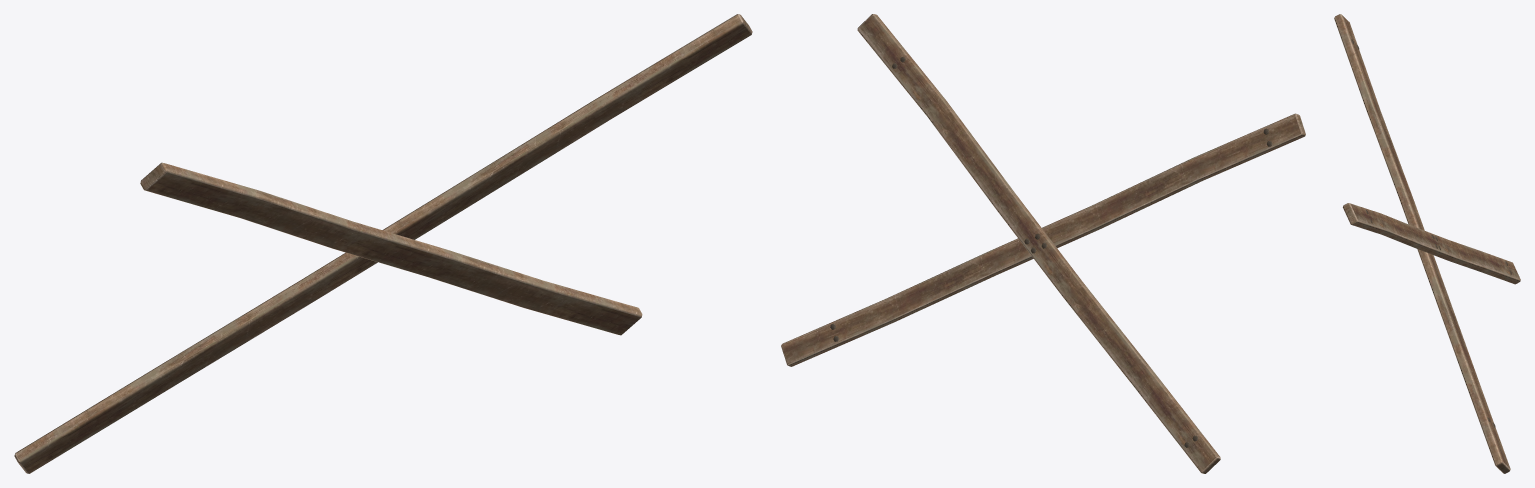
3 views of the same model, side by side, from view 1: azimuth 30°, elevation 25°; view 2: azimuth 150°, elevation 25°; view 3: azimuth 270°, elevation 25° (orthographic). The views are drawn at different scales.
Visible parts, largest first — view 1: SM_DR_Wood_Brace_01_LOD0; view 2: SM_DR_Wood_Brace_01_LOD0; view 3: SM_DR_Wood_Brace_01_LOD0.
Part boxes in pixels (x1,y1,x2,y2): SM_DR_Wood_Brace_01_LOD0: [14, 14, 752, 473]; SM_DR_Wood_Brace_01_LOD0: [781, 14, 1305, 473]; SM_DR_Wood_Brace_01_LOD0: [1334, 14, 1520, 473].
Size of the model in its own units: 10.53 by 6.62 by 4.12.
Materials: 2 (2 with a texture image).
